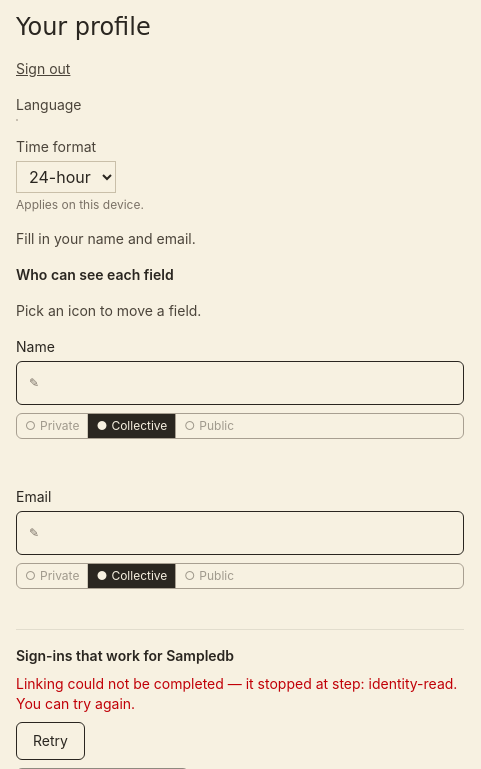
Test: /profile — linked-identities read failure (#193 review F1) › retrying the read clears the error and renders the real list
Expected: the element with test id "profile-field-name" is shown, [16, 337, 464, 463]
Expected: the message with test id "profile-linked-load-error" is shown, [16, 674, 464, 760]
Click the button with test id "profile-linked-retry" at (50, 741), box [16, 722, 85, 760]
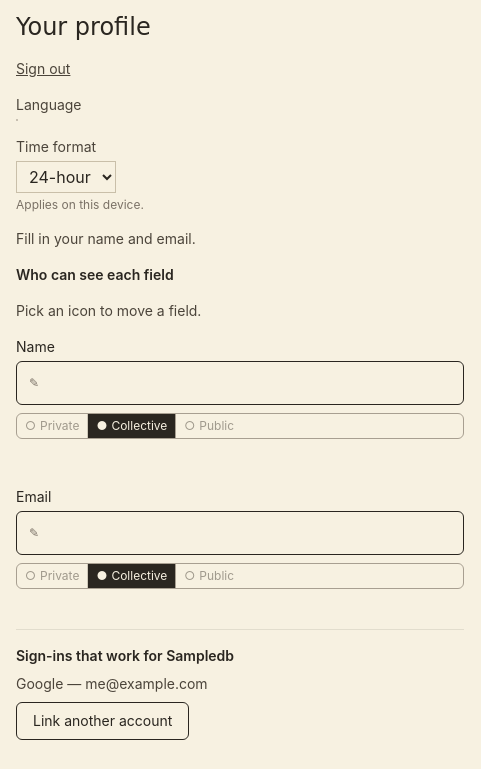
Now the message with test id "profile-linked-load-error" is gone
Now the button with test id "profile-link-another" is enabled, box [16, 702, 189, 740]
